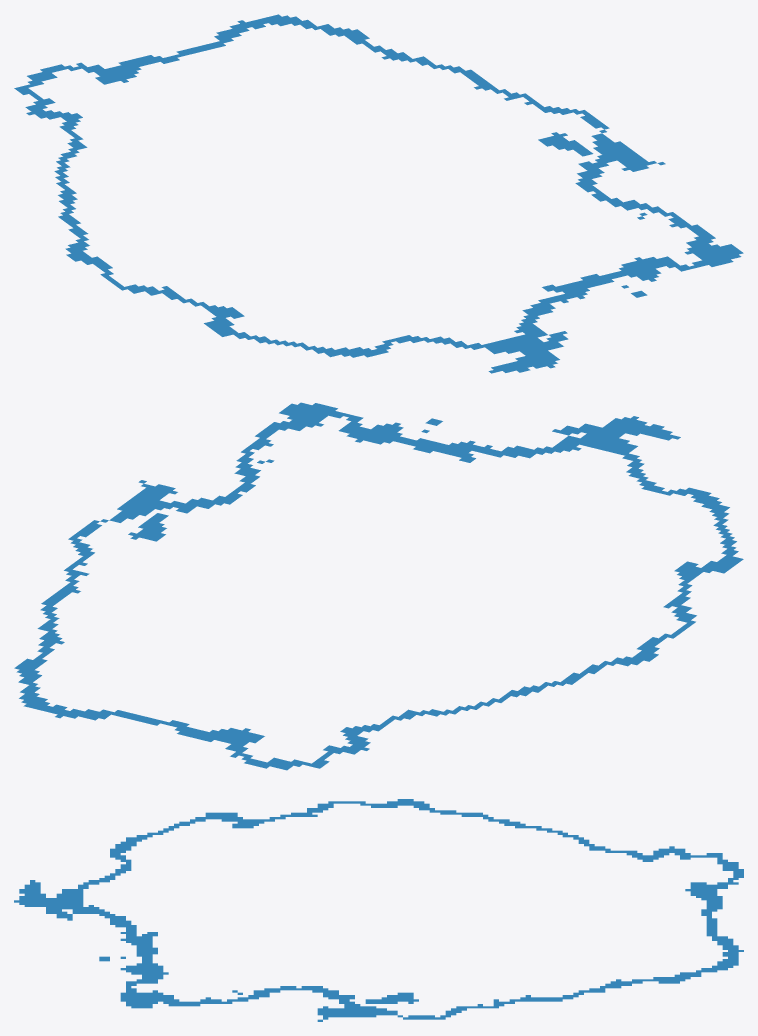
The model's file is Isl-flat5-PlaceForWaterObjects.fbx.
3 renders of one model, top to bottom at view 1: azimuth 30°, elevation 25°; view 2: azimuth 150°, elevation 25°; view 3: azimuth 270°, elevation 25°, orthographic. The views are drawn at different scales.
Parts seen in each view (by area): view 1: Isl-flat5-PlaceForWaterObjects; view 2: Isl-flat5-PlaceForWaterObjects; view 3: Isl-flat5-PlaceForWaterObjects.
Part boxes in pixels (x1,y1,x2,y2): Isl-flat5-PlaceForWaterObjects: (14, 14, 743, 373); Isl-flat5-PlaceForWaterObjects: (14, 402, 743, 770); Isl-flat5-PlaceForWaterObjects: (14, 799, 743, 1021).
Bounding box in the file's own units: 99 × 0 × 137.
